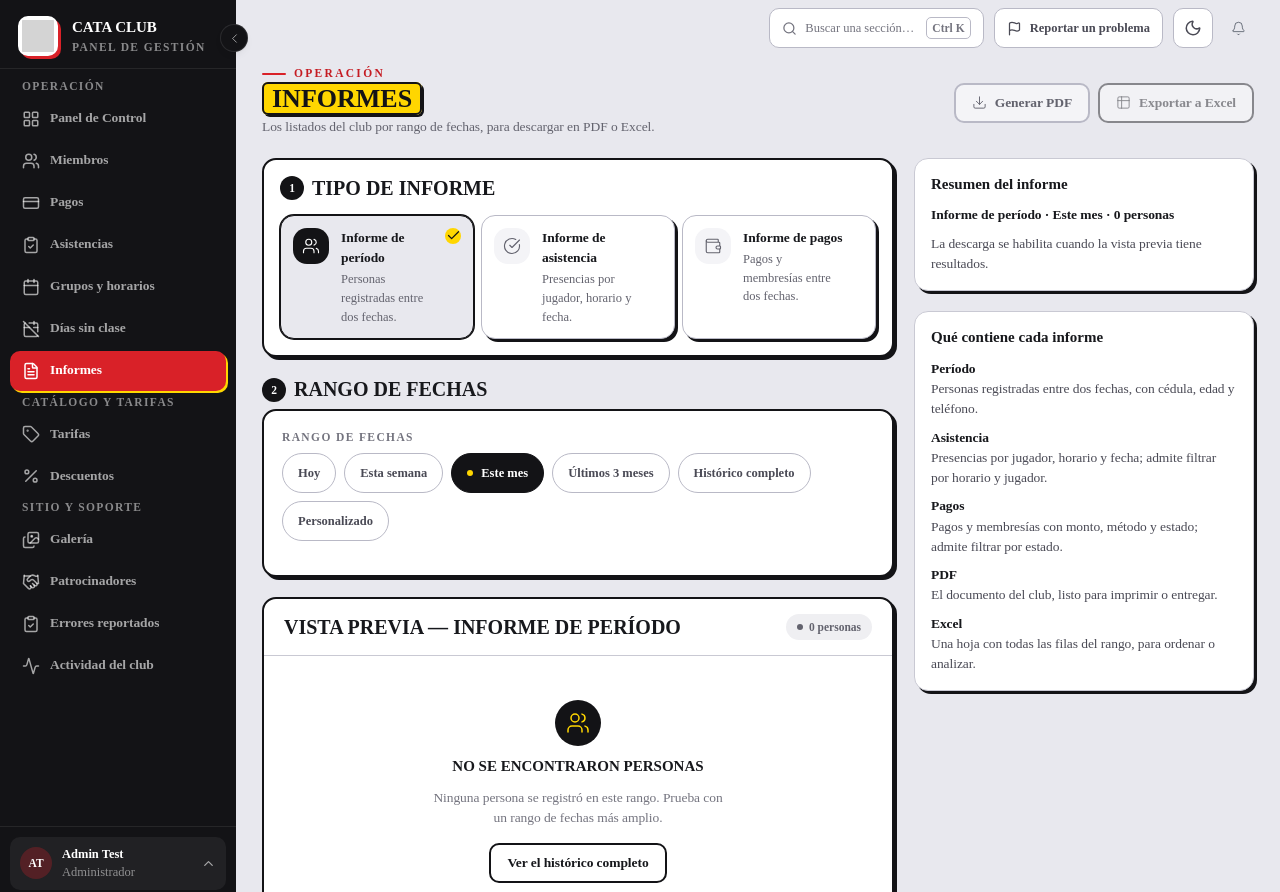
Test case: ReportsPage — preview area › asks for both dates and keeps downloads off on an empty custom range, for pagos too (ADMB-31)
The width and height of the screenshot is (1280, 892).
Click the radio button labelled "Informe de pagos Pagos y membresías entre dos fechas." at [779, 277], box [682, 215, 876, 339]
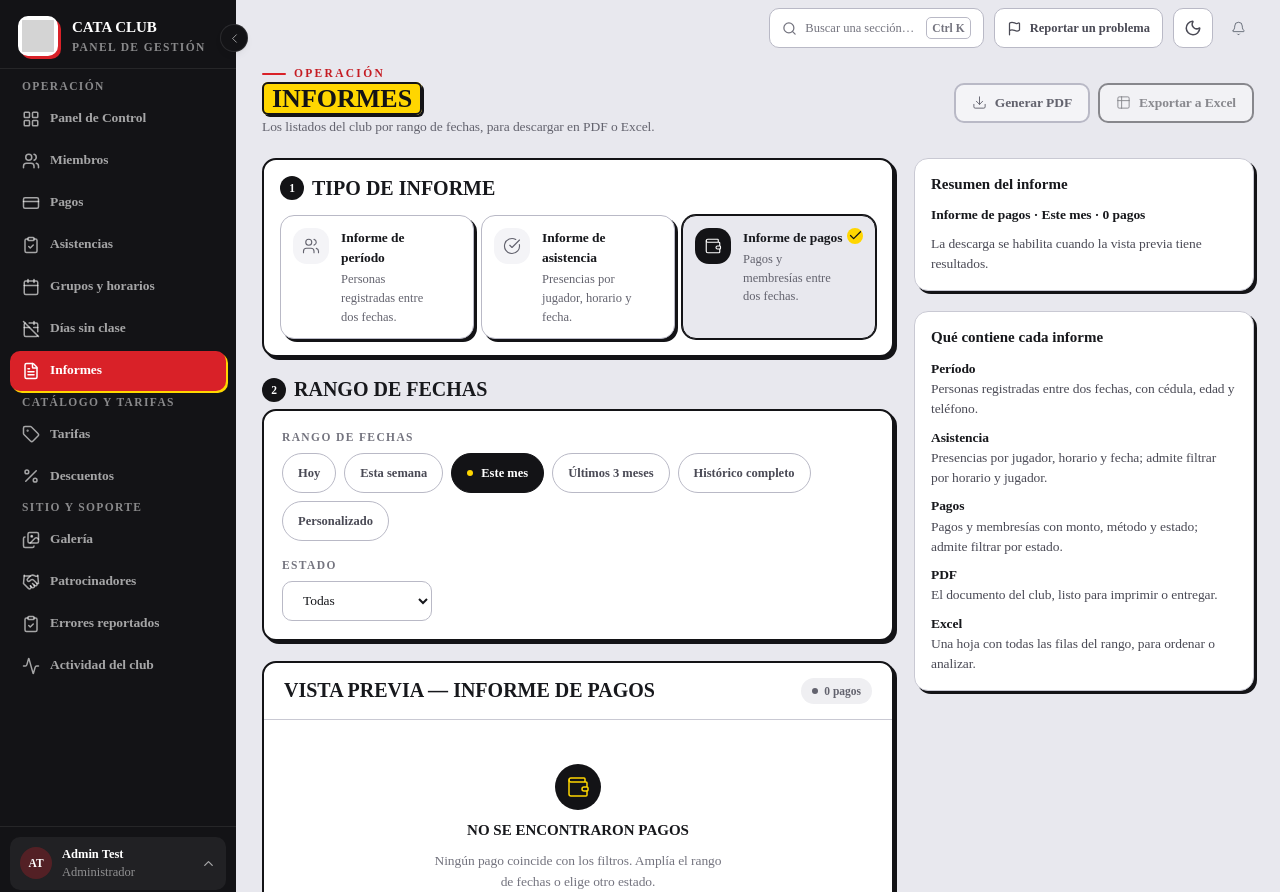
Click the button "Personalizado" at [336, 522], box [282, 502, 389, 542]
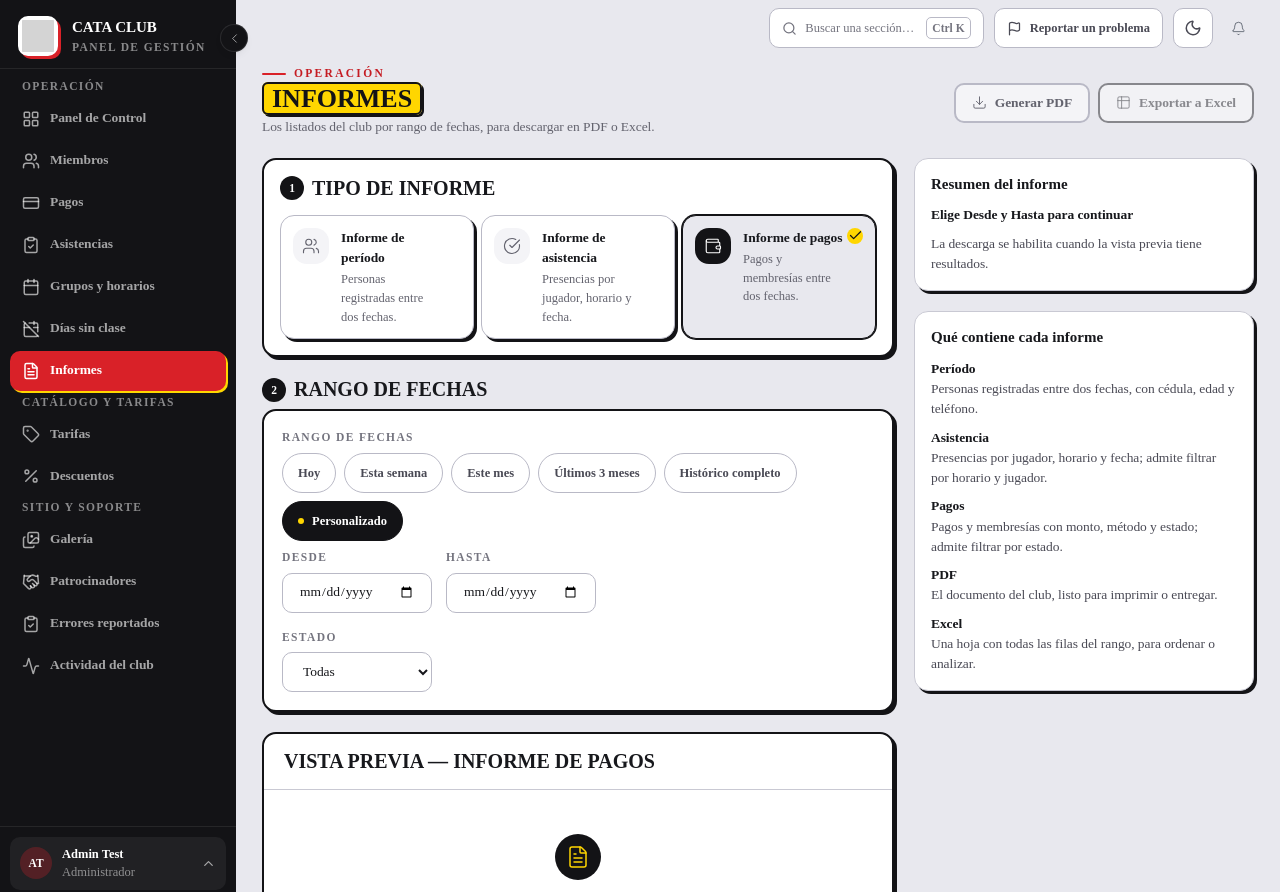
Check: the button "Generar PDF" is disabled, box [954, 83, 1090, 123]
Check: the text "Elige Desde y Hasta para continuar" is shown, box [931, 207, 1133, 222]
